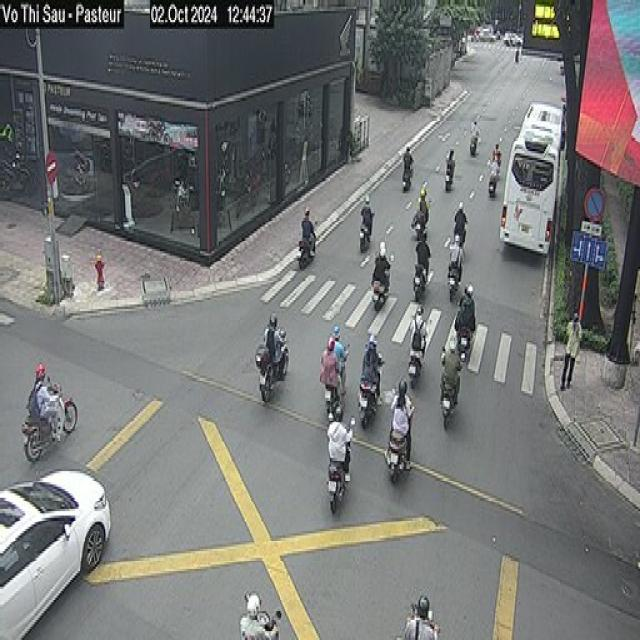bus: (498, 100, 564, 256)
car: (0, 469, 111, 638)
motorcycle: (22, 378, 78, 460), (404, 338, 442, 416), (316, 447, 361, 506), (255, 327, 289, 402), (433, 370, 471, 432), (386, 423, 422, 477), (320, 367, 354, 423), (357, 368, 383, 440), (445, 297, 471, 366), (370, 267, 390, 311), (412, 269, 434, 308), (449, 264, 470, 304), (296, 229, 316, 269), (414, 208, 429, 253), (486, 157, 500, 195), (444, 162, 454, 191)
person: (28, 362, 60, 440), (326, 404, 354, 480), (390, 378, 414, 464), (239, 591, 281, 638), (319, 336, 340, 418), (559, 311, 581, 389), (404, 593, 440, 638), (360, 333, 384, 400), (454, 282, 475, 351), (408, 304, 428, 376), (440, 338, 461, 404), (449, 186, 470, 242), (332, 324, 348, 394), (264, 302, 282, 362), (371, 240, 390, 293), (415, 229, 431, 280), (417, 189, 435, 233), (300, 207, 316, 256), (452, 200, 468, 247), (360, 194, 374, 242), (487, 138, 502, 170), (470, 115, 484, 146), (402, 144, 412, 187), (94, 251, 105, 289), (470, 120, 480, 153), (445, 149, 455, 182), (491, 142, 501, 174)
